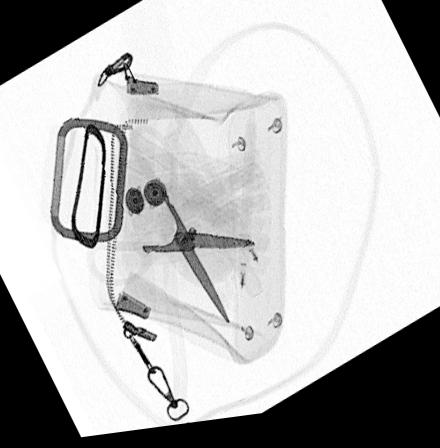Scissors: (86, 122, 259, 328)
